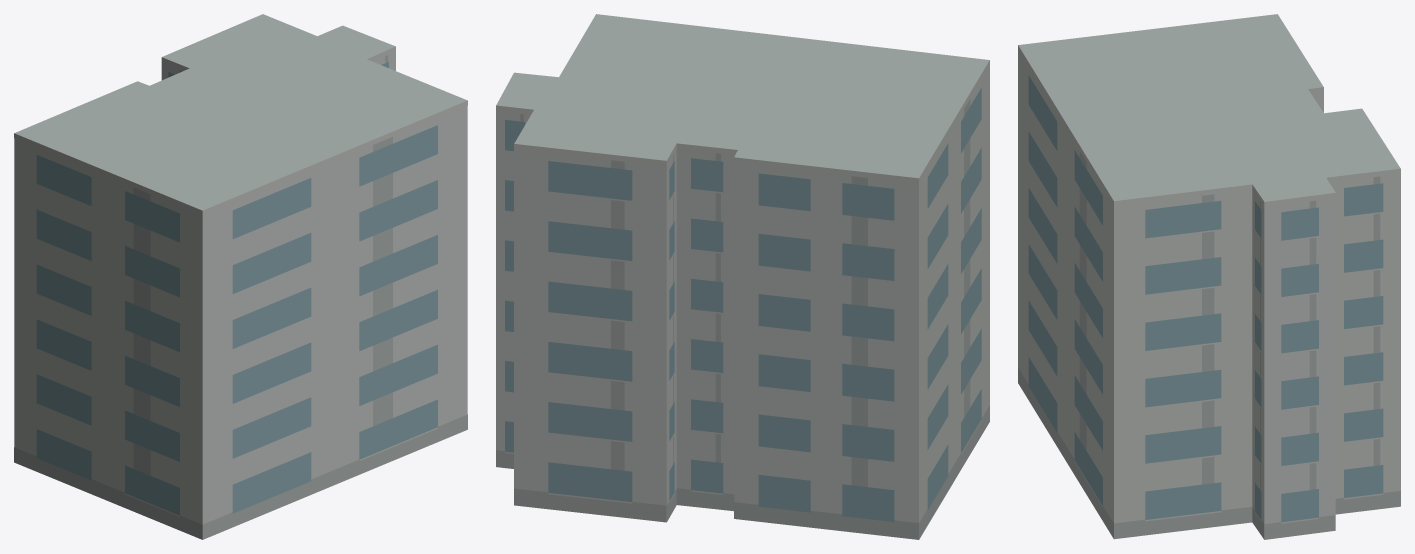
The model's file is survey-upis-33021248.glb.
3 views of the same model, side by side, from view 1: azimuth 30°, elevation 25°; view 2: azimuth 150°, elevation 25°; view 3: azimuth 270°, elevation 25° (orthographic). The views are drawn at different scales.
Parts seen in each view (by area): view 1: survey-upis-33021248.tmp; view 2: survey-upis-33021248.tmp; view 3: survey-upis-33021248.tmp.
Boxes of the visible parts, box(x1,y1,x2,y2) form: survey-upis-33021248.tmp: box(14, 14, 467, 539); survey-upis-33021248.tmp: box(496, 14, 989, 539); survey-upis-33021248.tmp: box(1018, 14, 1400, 539).
Size of the model in its own units: 18.73 by 15.7 by 16.12.
